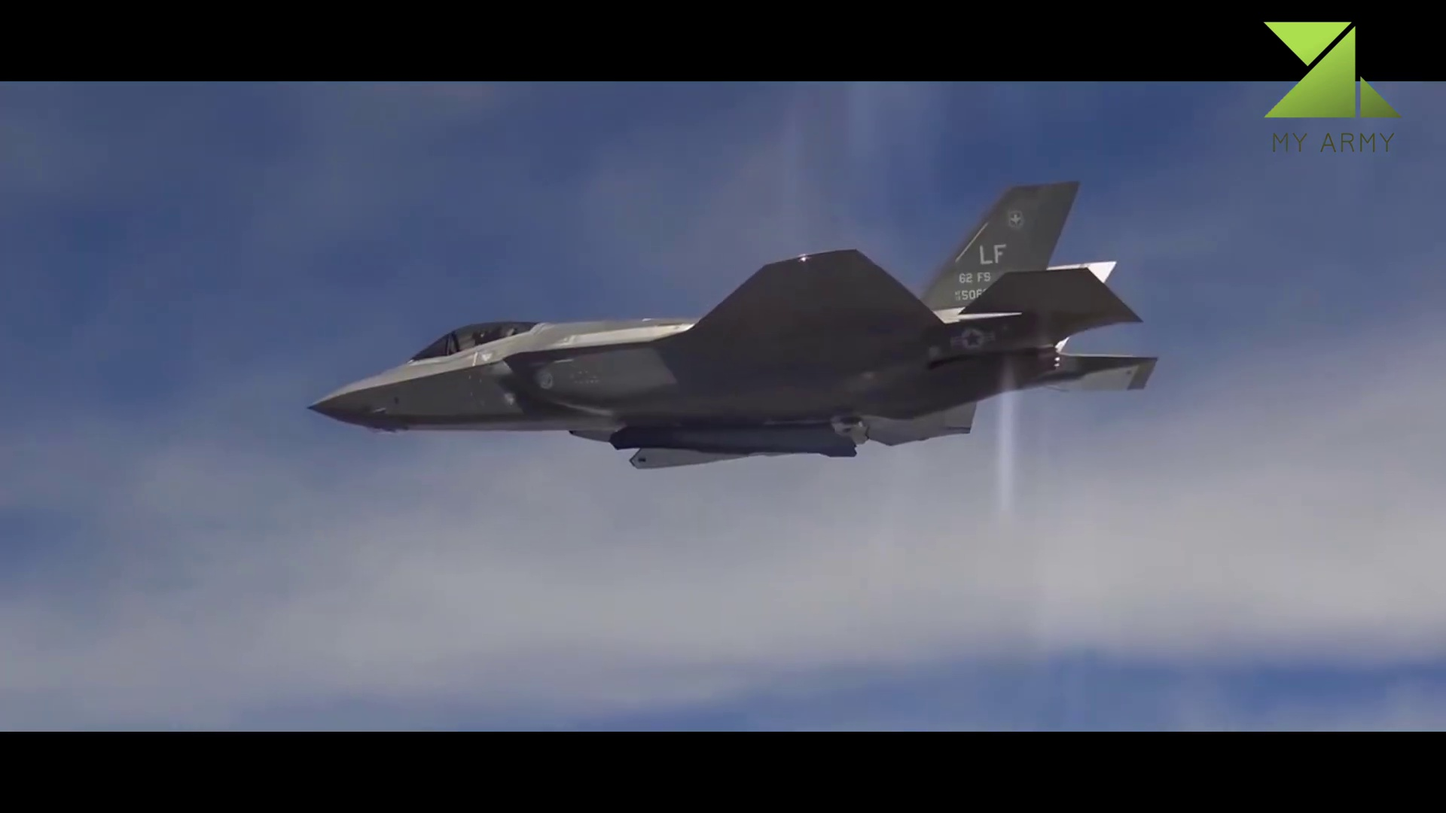F35: (299, 175, 1171, 486)
